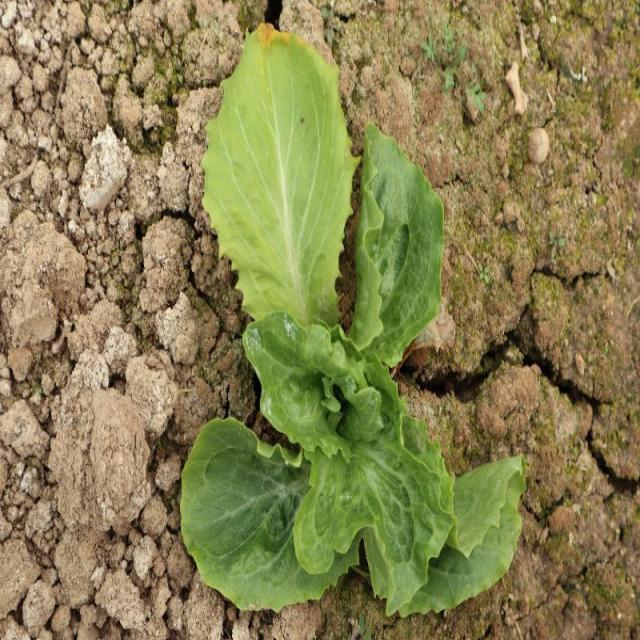crop: (184, 130, 526, 616)
